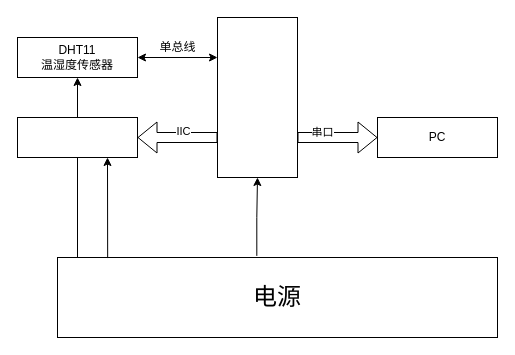
The diagram is 515 pixels wide and 355 high, and some of its shapes have lost their labels. The box of each missing label's shape, as (x1, y1, x2, y2) in pixels:
OLED: (16, 116, 138, 158)
微控制器: (216, 16, 298, 178)
